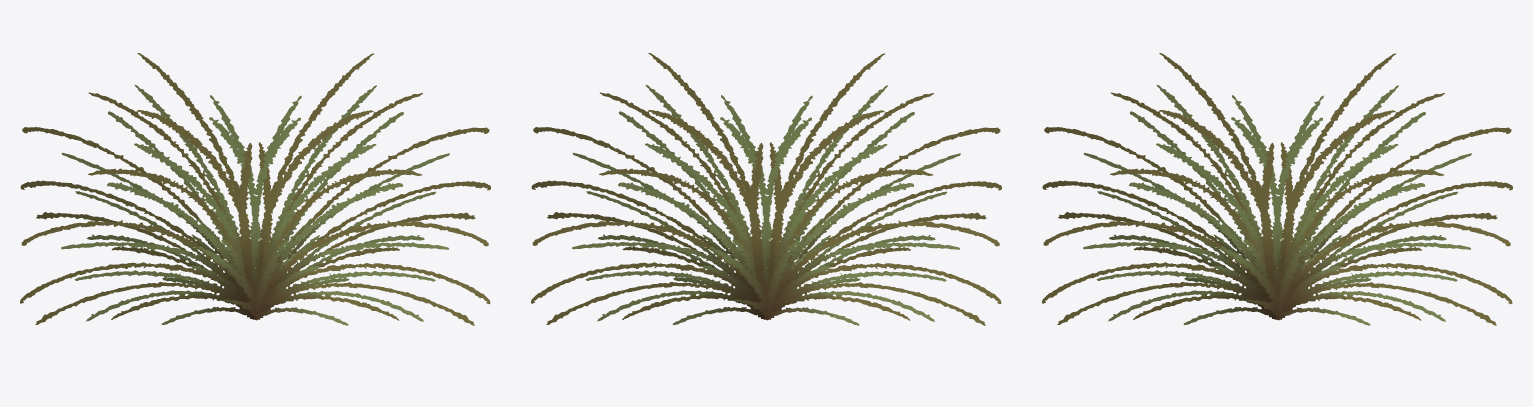
Rendered from HP3_weed043 1.fbx.
The picture shows the model from 3 angles, left to right: view 1: azimuth 30°, elevation 25°; view 2: azimuth 150°, elevation 25°; view 3: azimuth 270°, elevation 25°; orthographic projection.
Visible parts, largest first — view 1: HP3_weed043; view 2: HP3_weed043; view 3: HP3_weed043.
Part boxes in pixels (box(x1,y1,x2,y2)): HP3_weed043: box(20, 53, 490, 325); HP3_weed043: box(531, 53, 1001, 325); HP3_weed043: box(1042, 53, 1512, 325).
Bounding box in the file's own units: 15.66 × 7.88 × 13.58.
